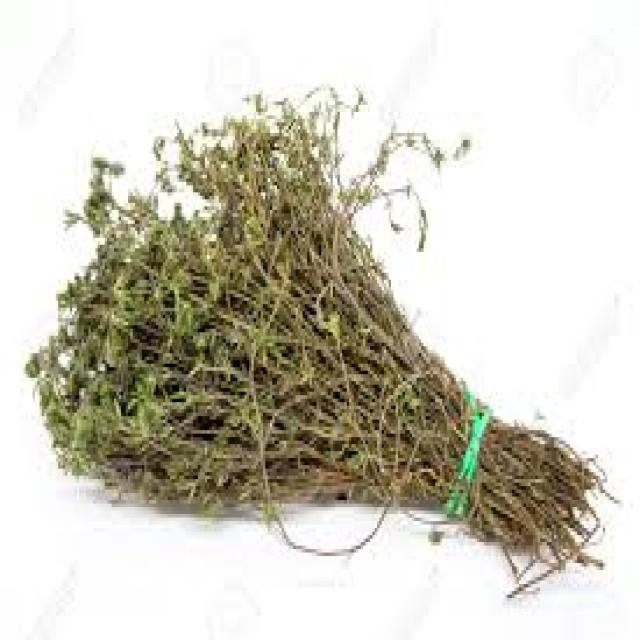Thyme: (14, 87, 635, 591)
